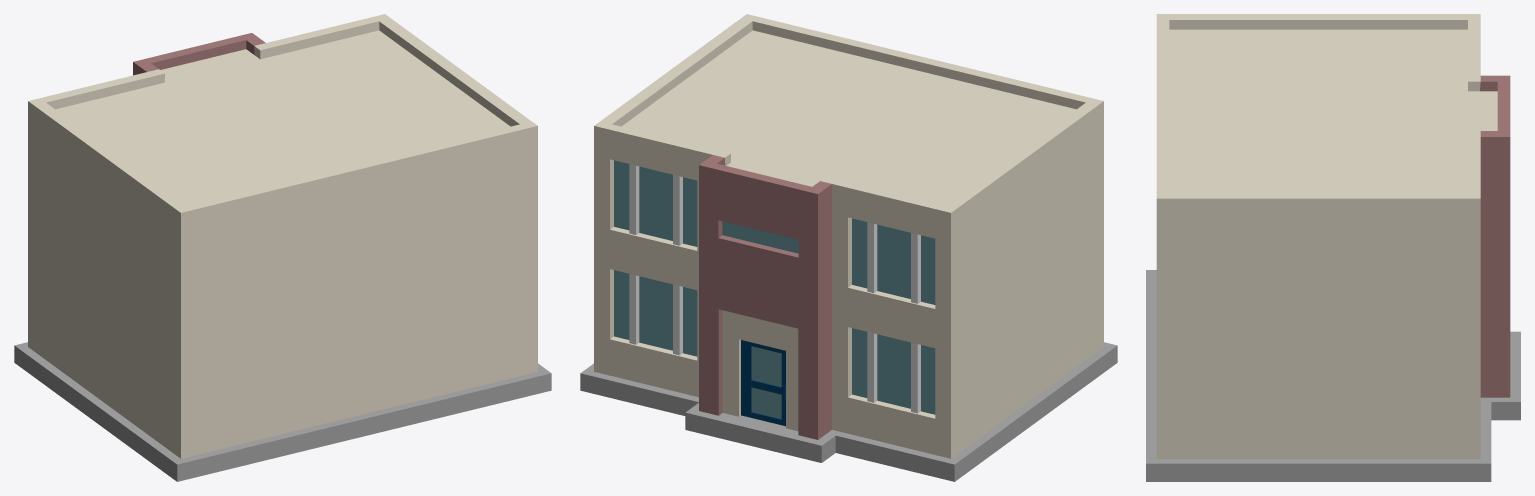
The model's file is cry_apartment_small_01_dylan.fbx.
The picture shows the model from 3 angles, left to right: view 1: azimuth 30°, elevation 25°; view 2: azimuth 150°, elevation 25°; view 3: azimuth 270°, elevation 25°; orthographic projection. The views are drawn at different scales.
Visible parts, largest first — view 1: apartment_small1; view 2: apartment_small1; view 3: apartment_small1.
Boxes of the visible parts, x1=… form: apartment_small1: x1=14, y1=14, x2=551, y2=481; apartment_small1: x1=580, y1=14, x2=1117, y2=481; apartment_small1: x1=1146, y1=14, x2=1520, y2=481.
Size of the model in its own units: 1081 by 726 by 884.
